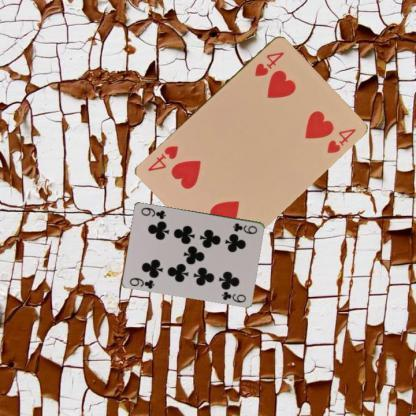4h: (252, 48, 286, 78)
9c: (127, 274, 156, 290), (230, 220, 259, 235)
